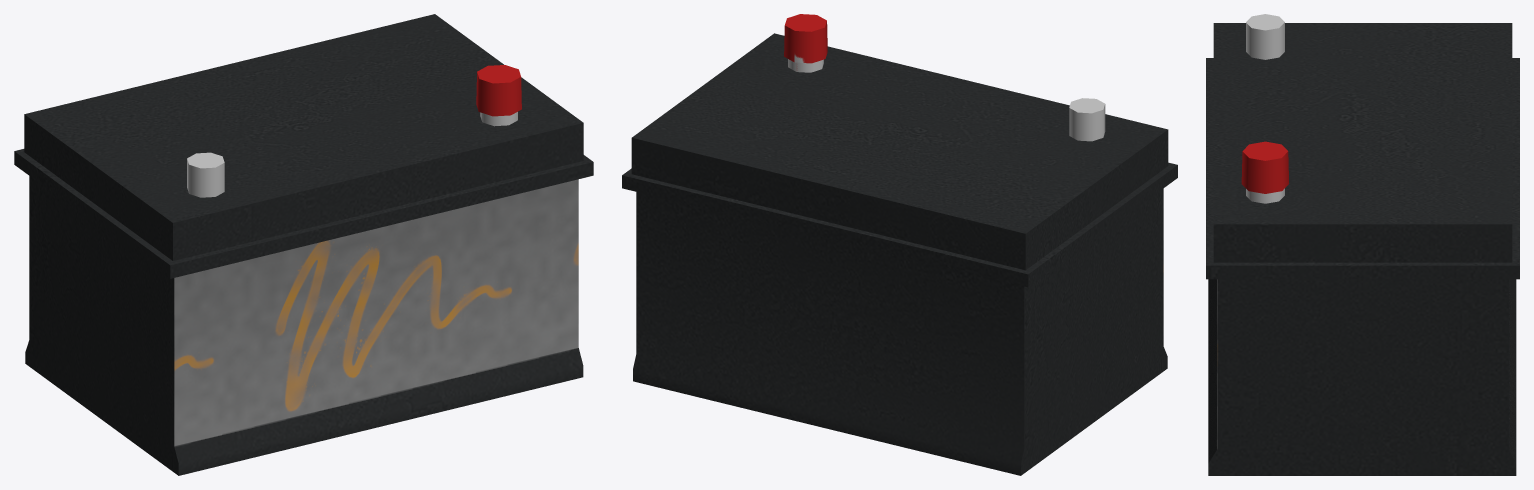
Rendered from Bateria.fbx.
3 views of the same model, side by side, from view 1: azimuth 30°, elevation 25°; view 2: azimuth 150°, elevation 25°; view 3: azimuth 270°, elevation 25° (orthographic). The views are drawn at different scales.
Parts seen in each view (by area): view 1: Box001; view 2: Box001; view 3: Box001.
Boxes of the visible parts, left/top/right/bottom form: Box001: left=14, top=14, right=593, bottom=475; Box001: left=622, top=14, right=1177, bottom=475; Box001: left=1206, top=14, right=1519, bottom=475.
Bounding box in the file's own units: 76.12 × 50.82 × 48.58.
Materials: 1 (1 with a texture image).
